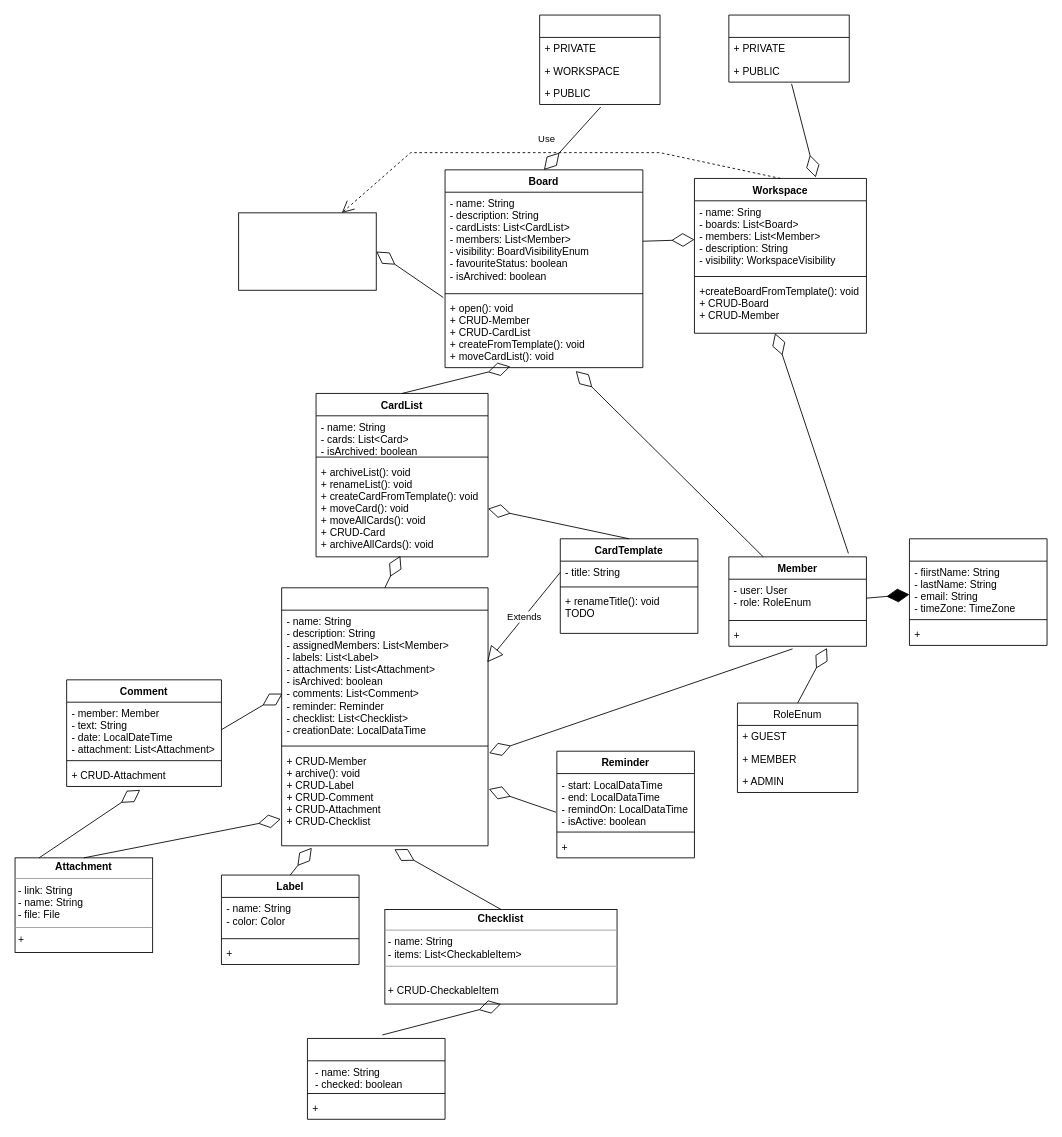
The diagram is 1062 pixels wide and 1137 high, and some of its shapes have lost their labels. Here are the shapes that lost their labels. From the top down, the box of each, then its label:
(539, 14, 660, 104): BoardVisibilityEnum
(728, 14, 849, 82): WorkspaceVisivility
(238, 212, 376, 290): BoardTemplate - name: String + TODO
(909, 538, 1047, 645): User
(281, 587, 488, 846): Card
(307, 1038, 445, 1119): ChecableItem
